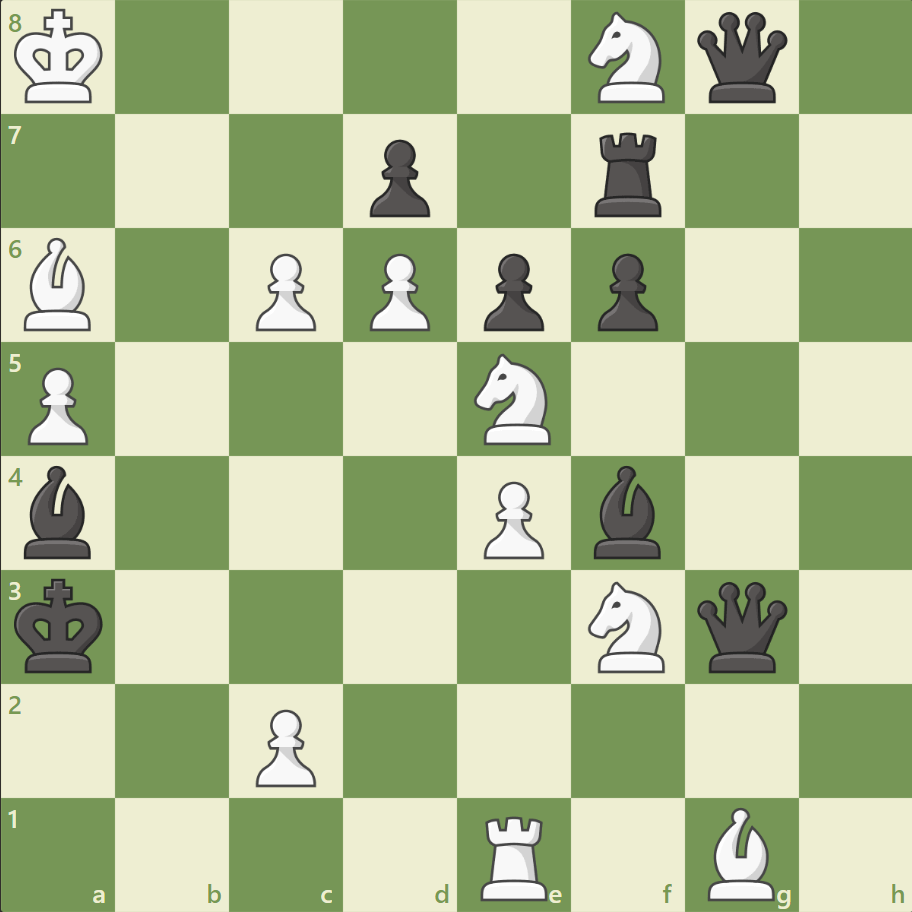B: (17, 233, 101, 336), (698, 801, 782, 904)
K: (11, 4, 111, 112)
N: (579, 7, 676, 110), (465, 348, 562, 450), (579, 575, 676, 677)
P: (247, 246, 322, 337), (20, 359, 95, 450), (474, 473, 549, 564), (247, 700, 322, 791), (361, 246, 435, 337)
R: (473, 806, 556, 904)
b: (17, 460, 101, 563), (585, 460, 669, 563)
k: (11, 571, 111, 679)
p: (474, 246, 549, 337), (361, 132, 435, 223), (588, 246, 662, 337)
q: (691, 576, 790, 676), (691, 9, 790, 108)
r: (587, 125, 670, 222)
